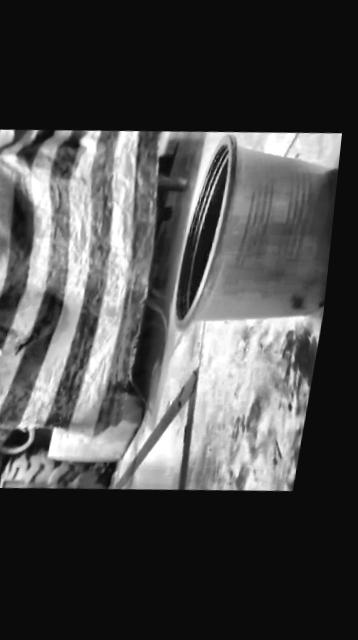pot: (167, 123, 343, 338)
